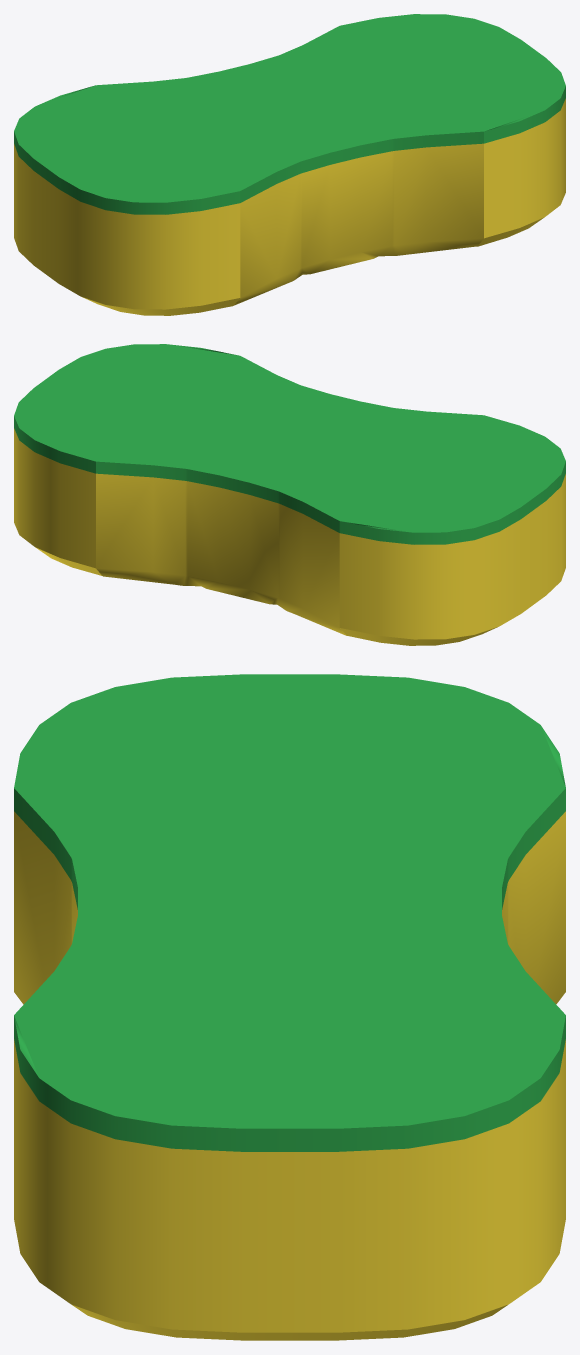
Rendered from 79e6c9a2-ddf8-473d-8007-0f53cacbffe9.glb.
The picture shows the model from 3 angles, top to bottom: view 1: azimuth 30°, elevation 25°; view 2: azimuth 150°, elevation 25°; view 3: azimuth 270°, elevation 25°; orthographic projection. The views are drawn at different scales.
Visible parts, largest first — view 1: Box001; view 2: Box001; view 3: Box001.
Part boxes in pixels (x1,y1,x2,y2): Box001: [14, 14, 565, 315]; Box001: [14, 344, 565, 645]; Box001: [14, 674, 565, 1340].
Bounding box in the file's own units: 319956 × 75304 × 164287.
